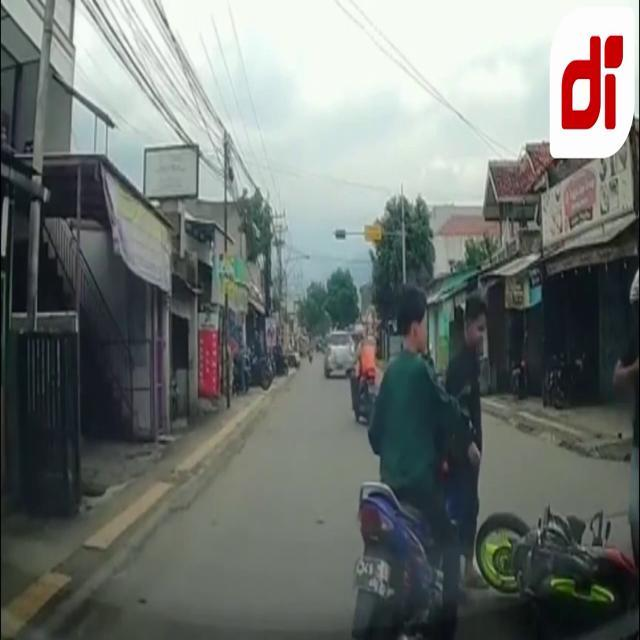normal: (340, 252, 495, 640)
single accident: (475, 485, 638, 640)
